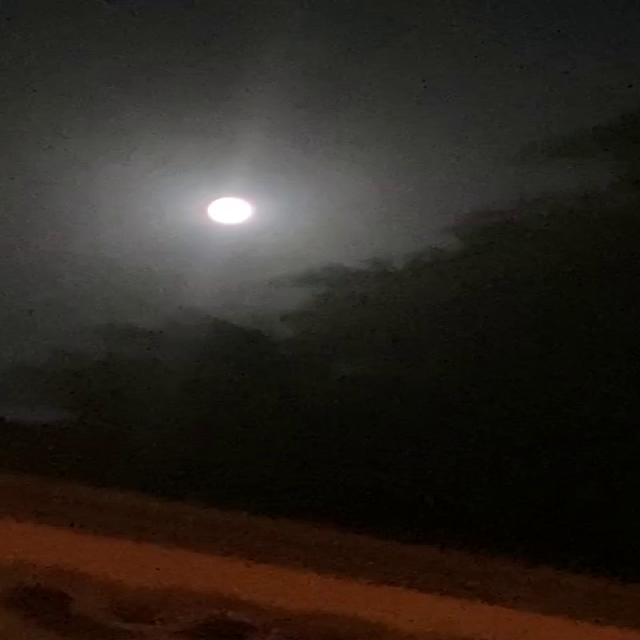moon: (188, 188, 271, 232)
